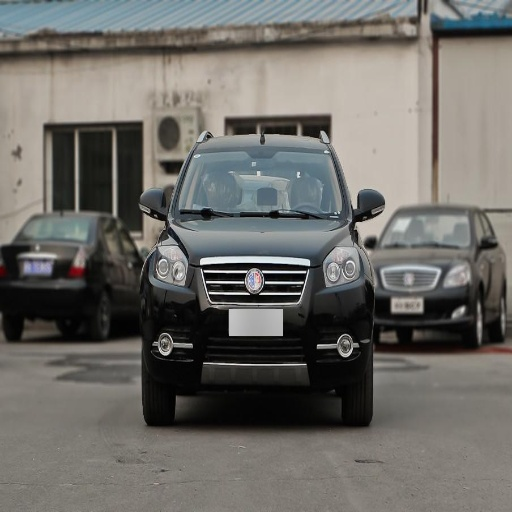front_bumper: (143, 256, 373, 388)
front_right_light: (152, 233, 189, 287)
hood: (170, 214, 354, 265)
